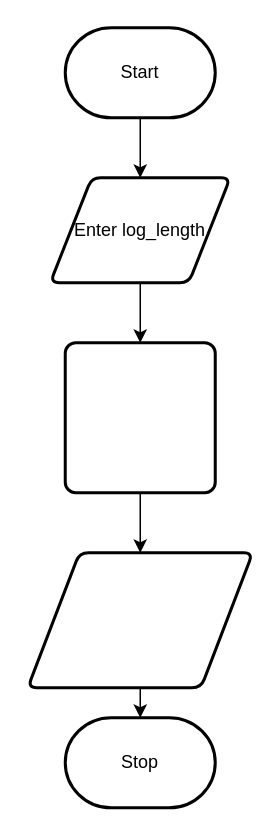
This 279x834 diagram has some shape labels left out. Here are the shapes that lost their labels. From the top down, the centre of each, then its label:
At point (139, 417): "truck_inventory = 1100 / (20 * userInput)".
At point (140, 619): "Display amount of logs the truck can carry".
